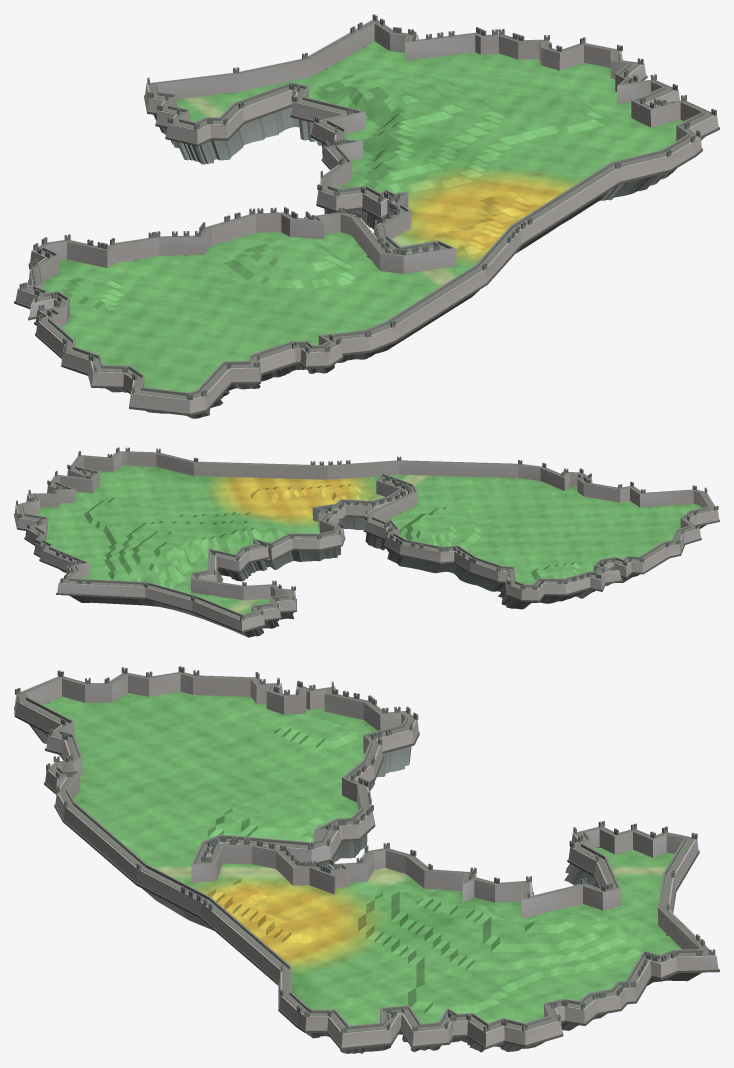
3 renders of one model, top to bottom at view 1: azimuth 30°, elevation 25°; view 2: azimuth 150°, elevation 25°; view 3: azimuth 270°, elevation 25°, orthographic. The views are drawn at different scales.
Parts seen in each view (by area): view 1: ground_6d1a757e; view 2: ground_6d1a757e; view 3: ground_6d1a757e.
Part boxes in pixels (x1,y1,x2,y2): ground_6d1a757e: (14,14,719,418); ground_6d1a757e: (14,447,719,637); ground_6d1a757e: (14,666,719,1053).
Bounding box in the file's own units: 155 × 7.61 × 127.
3 materials, 1 textured.
